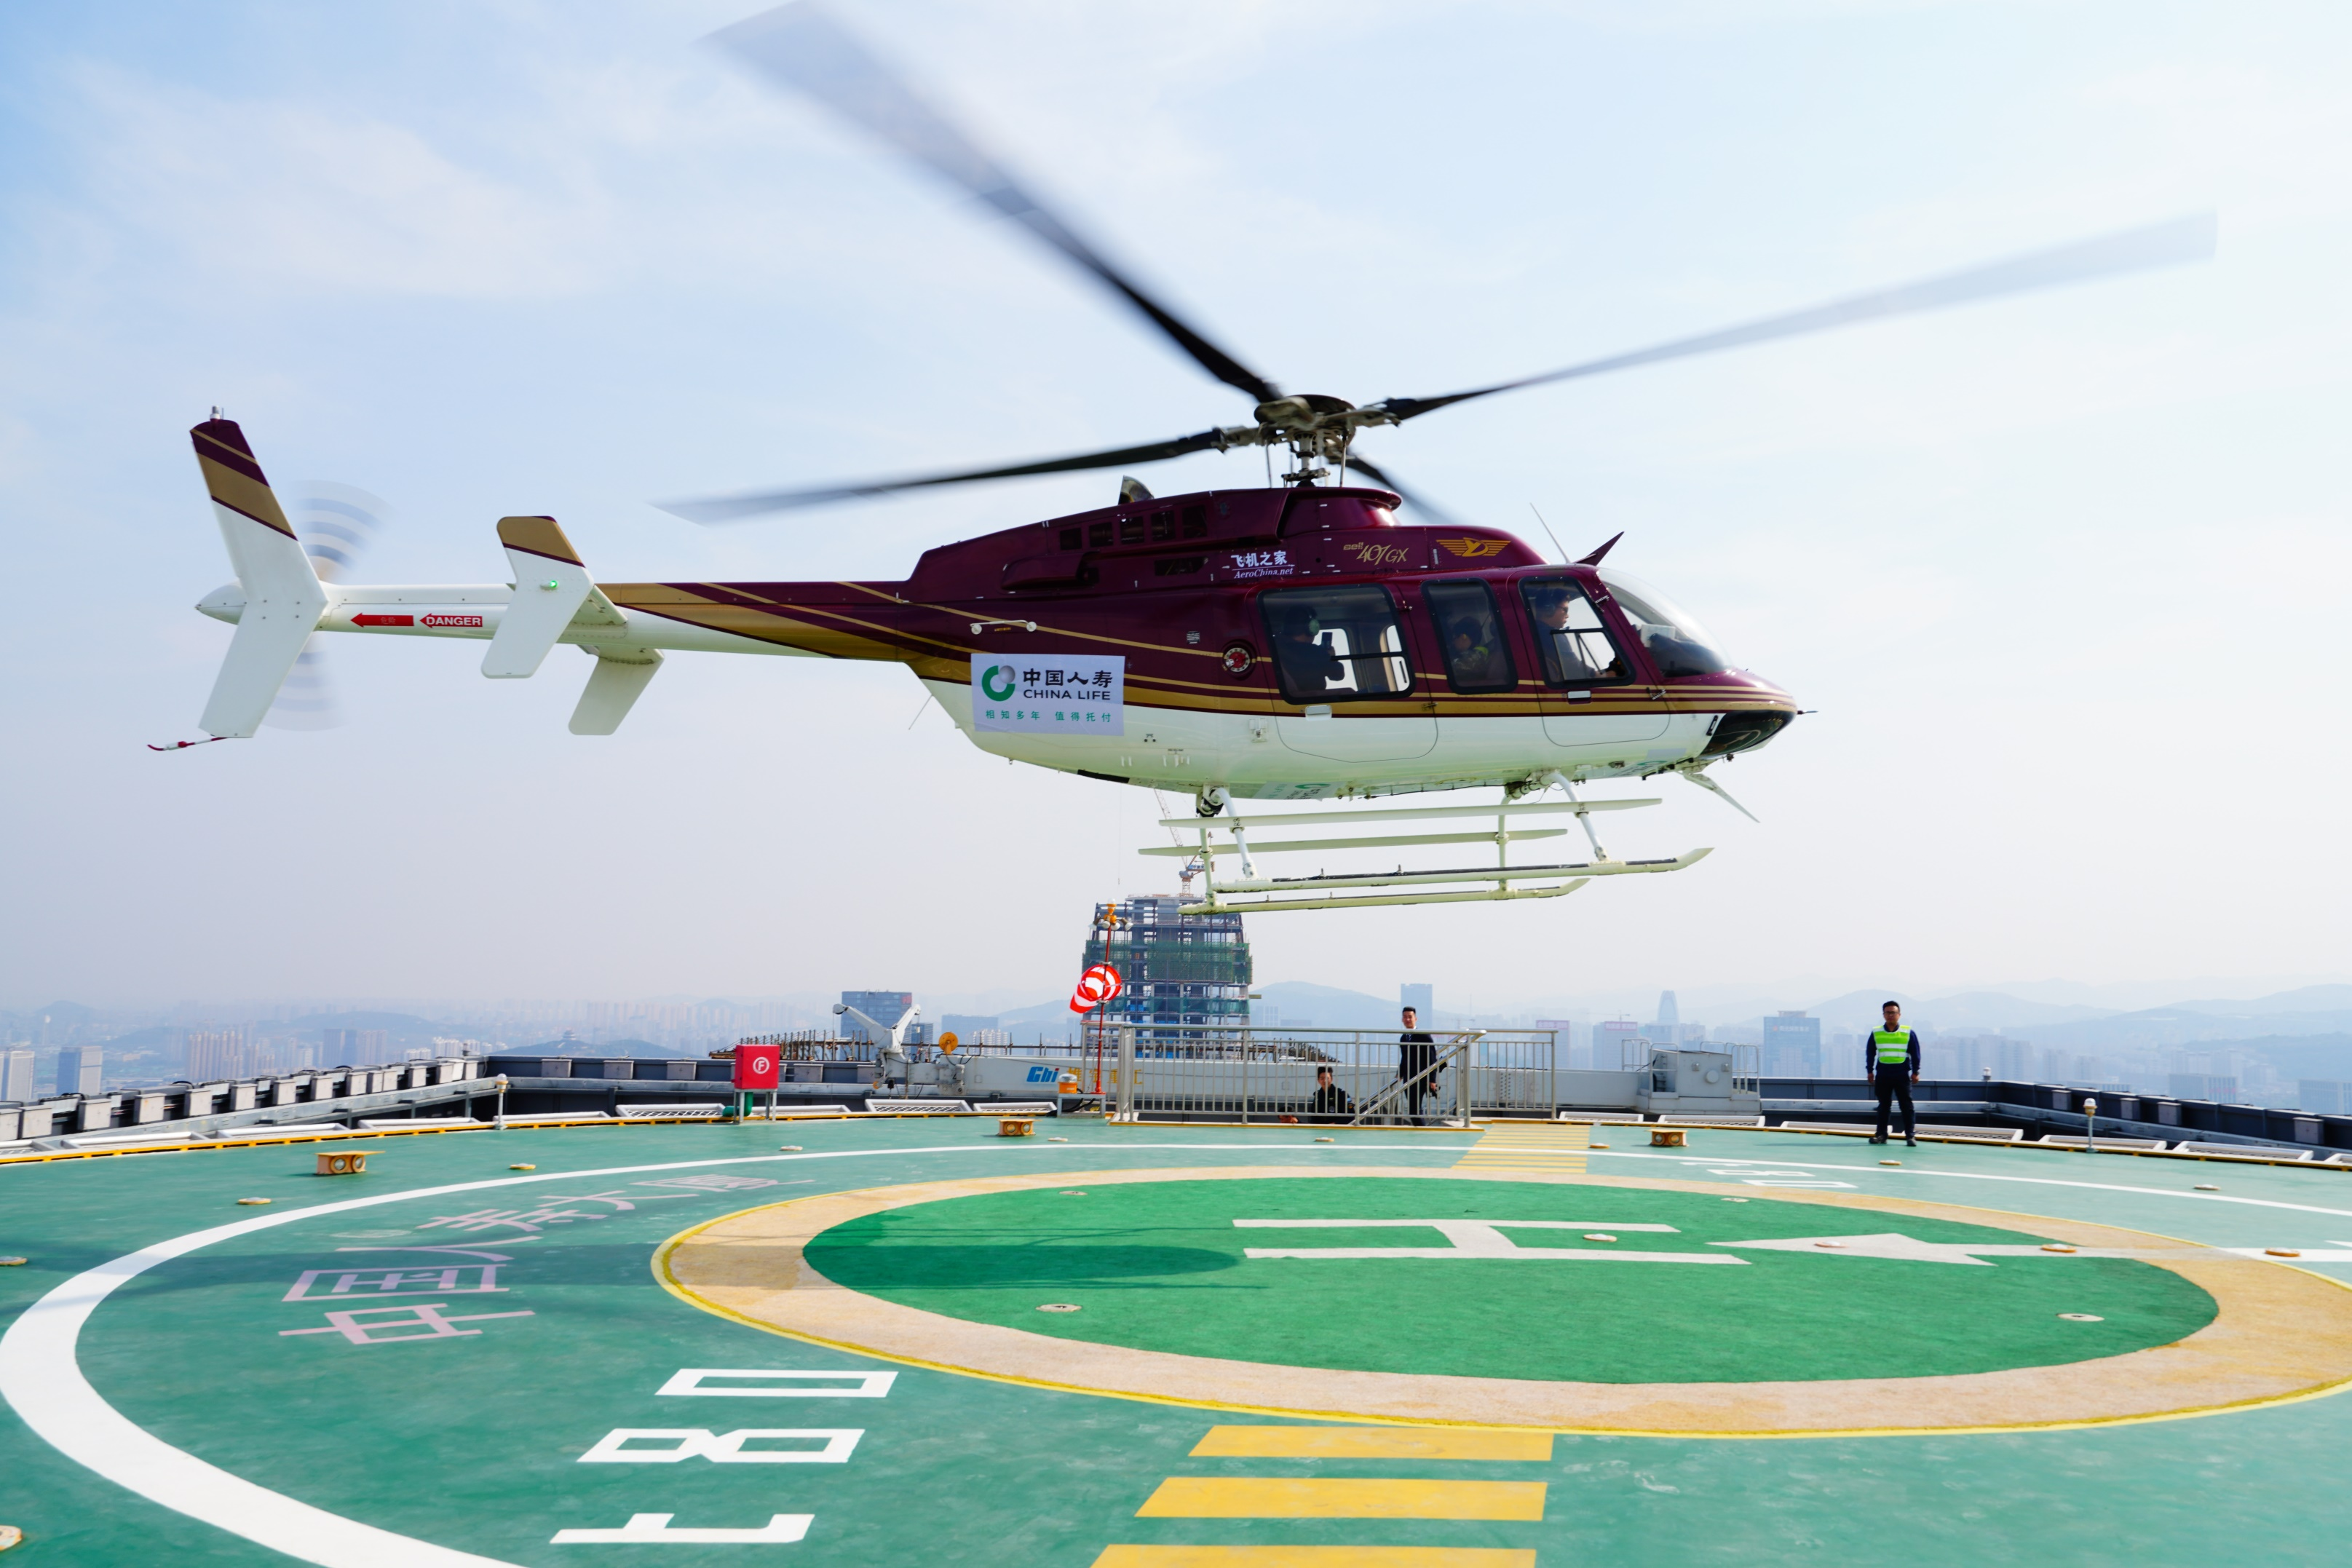Apron: (649, 1165, 2348, 1444)
